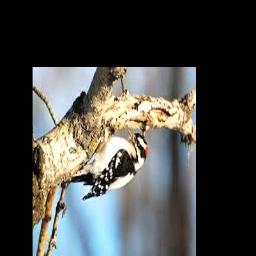Woodpecker: (61, 128, 147, 199)
